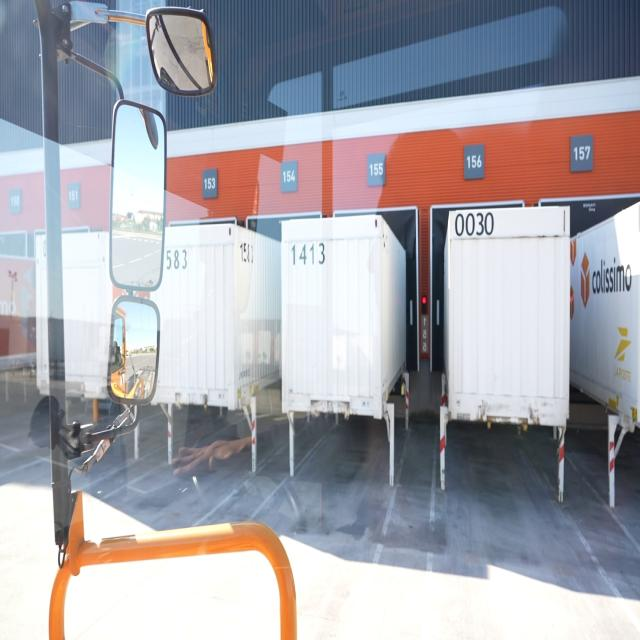Code: (452, 208, 495, 240), (286, 240, 329, 270)
